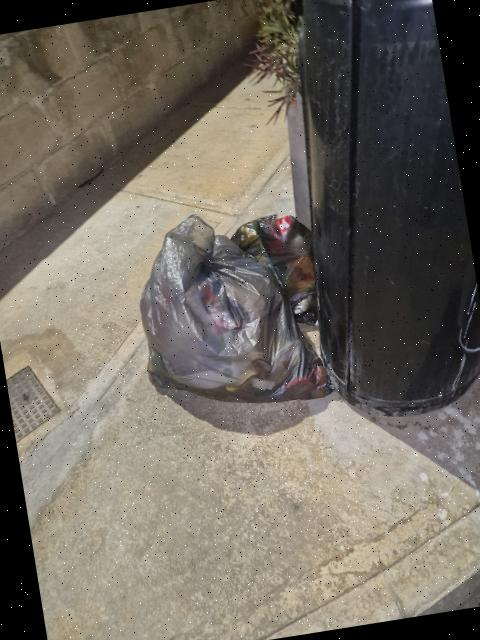Recyclable -Grey-: (140, 215, 330, 401), (232, 214, 317, 320)
